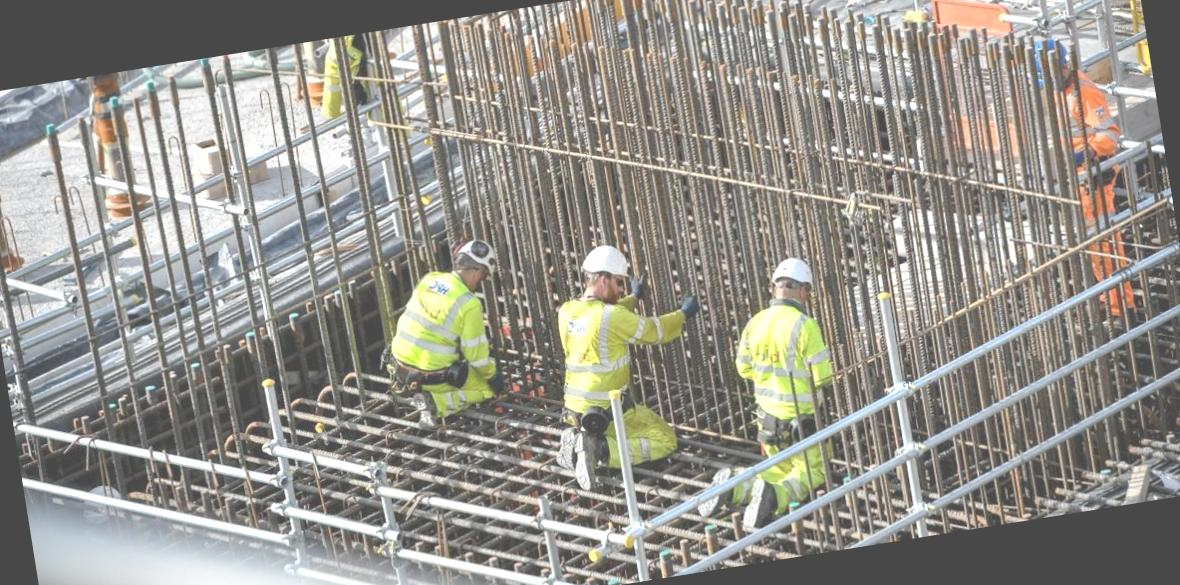helmet: (571, 235, 637, 287), (762, 242, 824, 293), (458, 227, 509, 274)
person: (522, 236, 698, 494), (704, 245, 864, 522), (374, 222, 524, 430)
